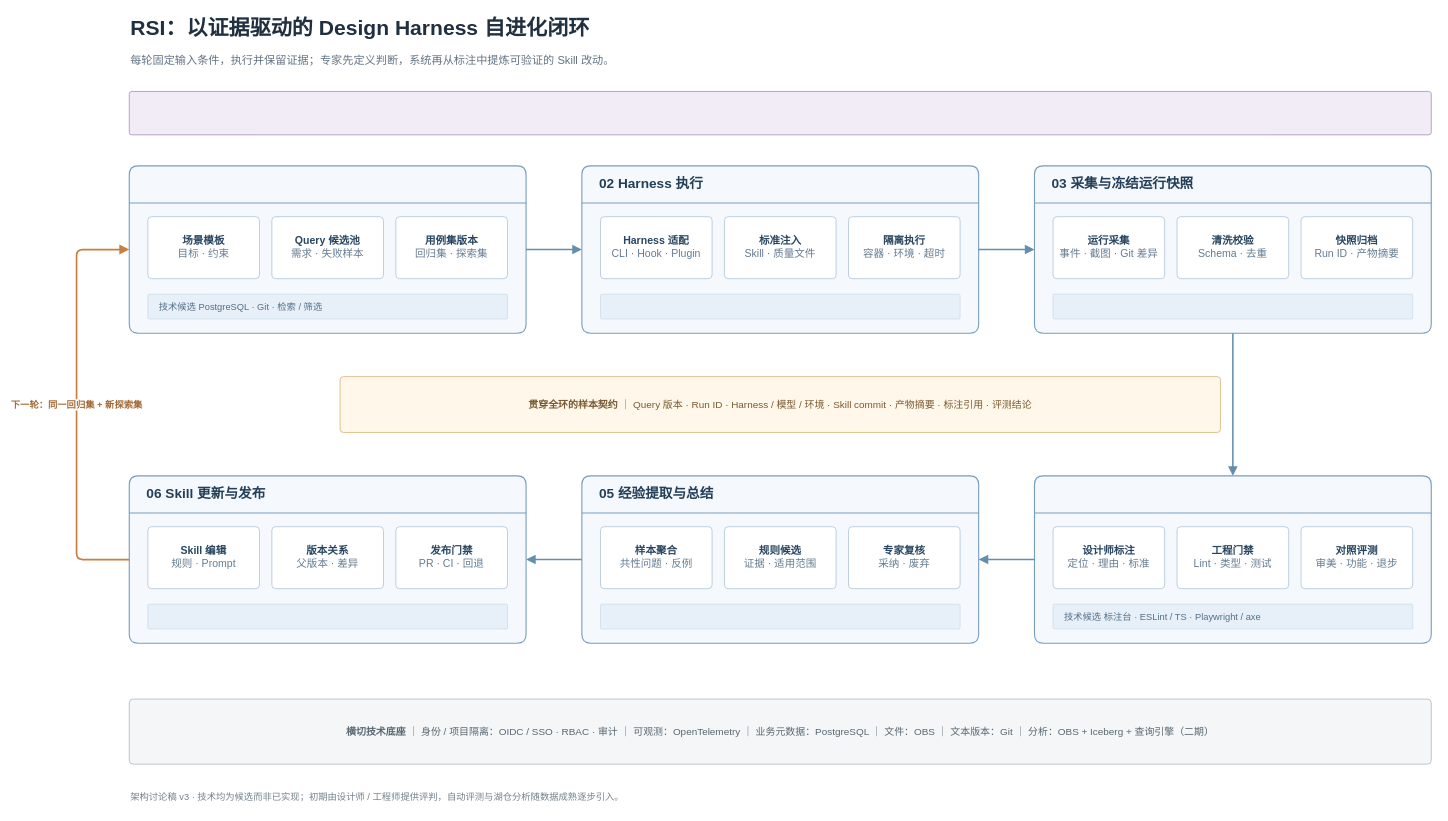
Some shapes in this 1448 by 821 pixel diagram are drawn without their labels. Here are the shapes that lost their labels. From the top down, the box of each, then its label:
(129, 91, 1431, 135): 专家标准持续输入 ｜ 设计师：品牌 / 审美 / 体验规范与标注 ｜ 工程师：质量文件 / 技术约束 / 可执行检查规则
(128, 165, 526, 333): 01 场景定义与 Query 发现
(600, 294, 960, 319): 技术候选 CLI / Hook / Plugin · 容器 · OpenTelemetry
(1052, 294, 1413, 319): 技术候选 OBS · PostgreSQL · Git · SHA-256
(1034, 475, 1432, 643): 04 专家标注与对照评测
(147, 604, 507, 629): 技术候选 Git · PR / CI · 发布记录
(600, 604, 960, 629): 技术候选 批处理 / LLM · SQL · Iceberg（二期）
